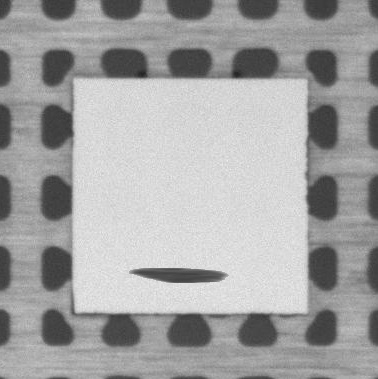DIE_INK: (113, 266, 244, 288)
